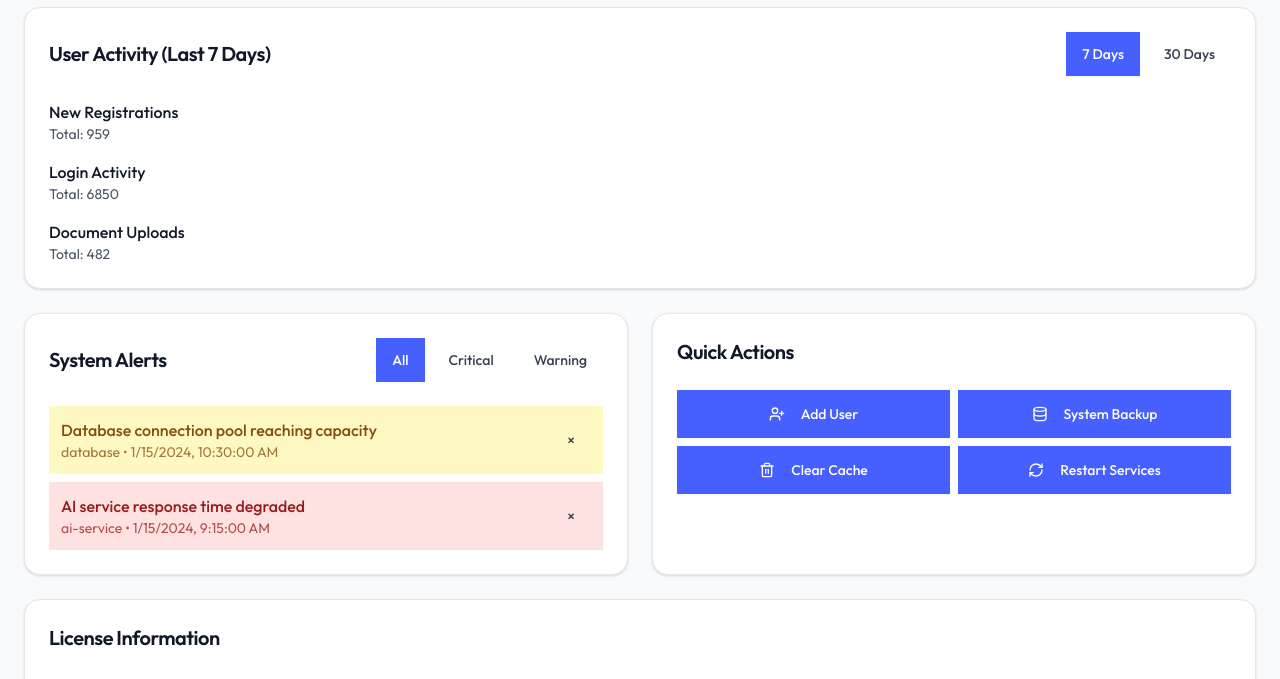
AdminDashboardPage › System Alerts and Notifications › should filter alerts by severity
The image size is (1280, 679).
(page scrolled)
Click the button with test id "alert-filter-critical". click: (471, 360)
box: [432,338,510,382]
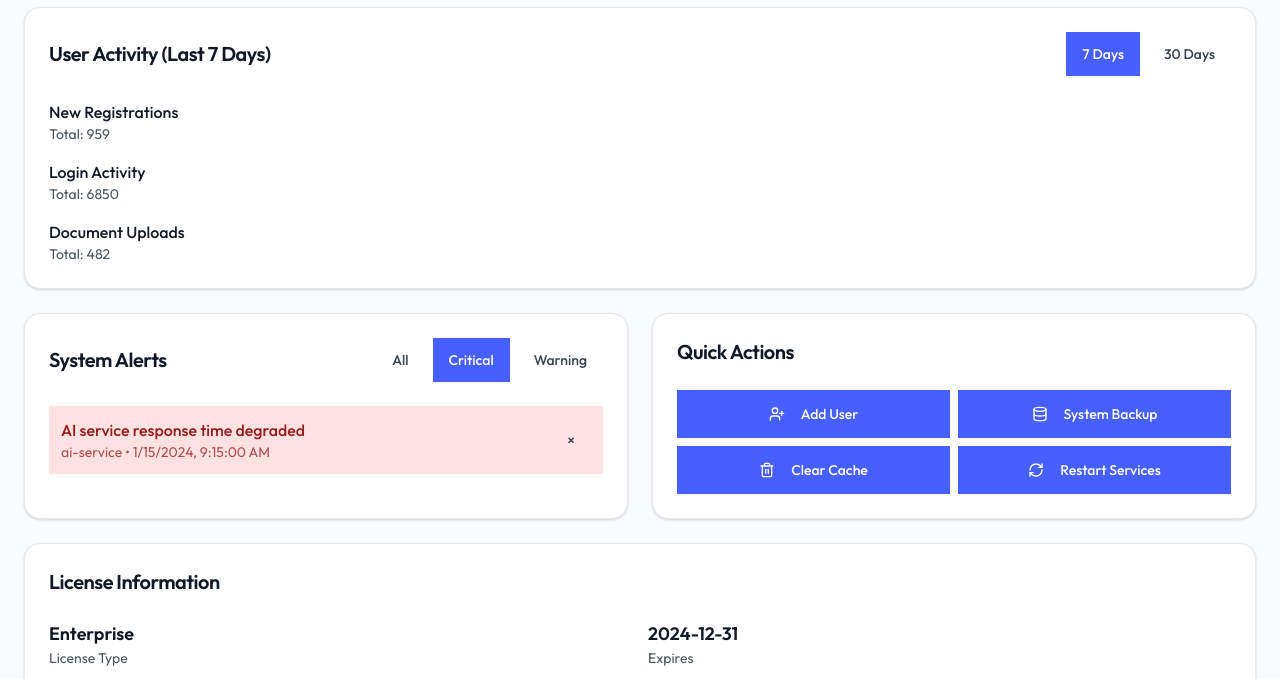
Expected: the element with test id "alert-critical-2" is shown, [49,406,603,474]
Now the element with test id "alert-warning-1" is gone
